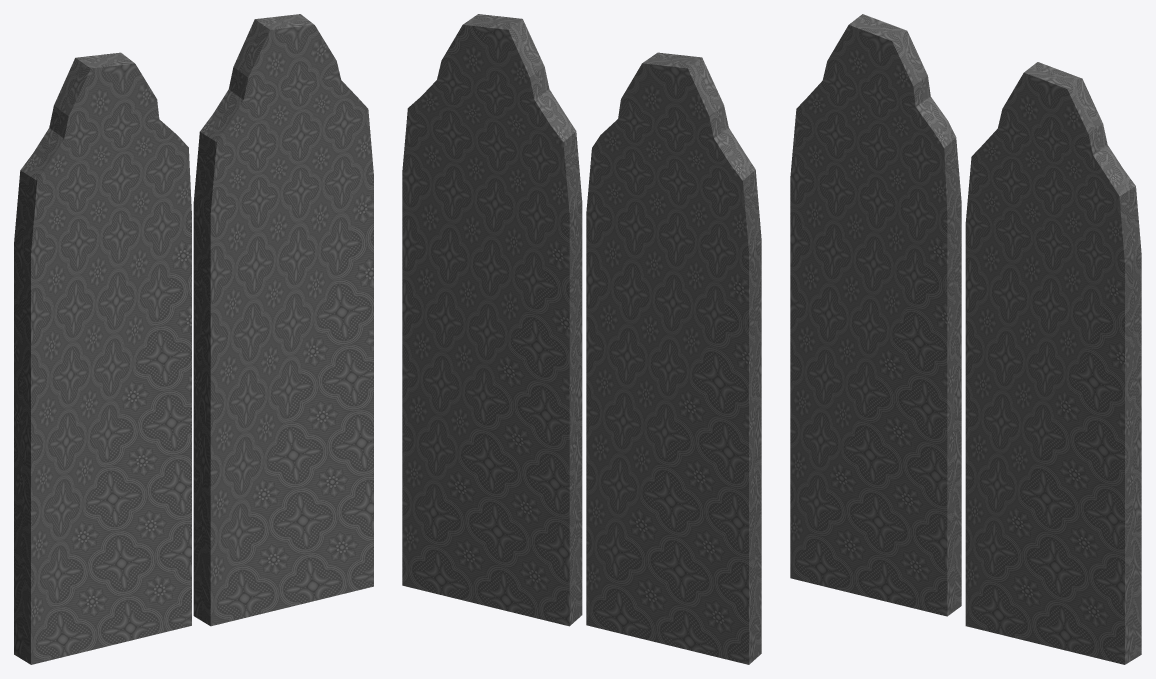
File: vidro_janela.fbx
3 renders of one model, left to right at view 1: azimuth 30°, elevation 25°; view 2: azimuth 150°, elevation 25°; view 3: azimuth 330°, elevation 25°, orthographic. The views are drawn at different scales.
Parts seen in each view (by area): view 1: Janela.002; view 2: Janela.002; view 3: Janela.002.
Boxes of the visible parts, x1,y1,x2,y2 form: Janela.002: (14, 14, 373, 664); Janela.002: (402, 14, 761, 664); Janela.002: (790, 14, 1141, 664).
Size of the model in its own units: 122 by 197 by 9.08.
1 material, 1 textured.
